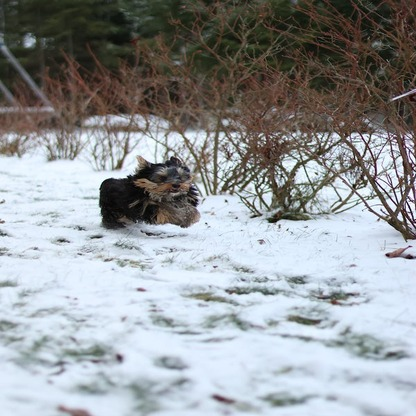yorkshire: (96, 152, 202, 235)
